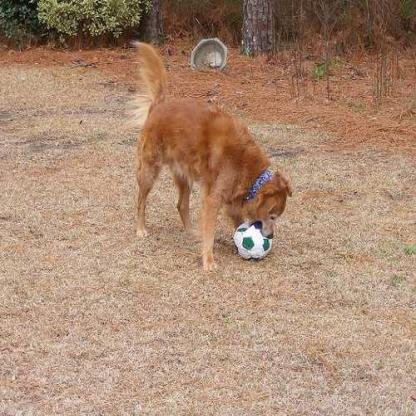ball: (235, 223, 274, 260)
